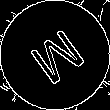M_SE: (22, 21, 88, 89)
